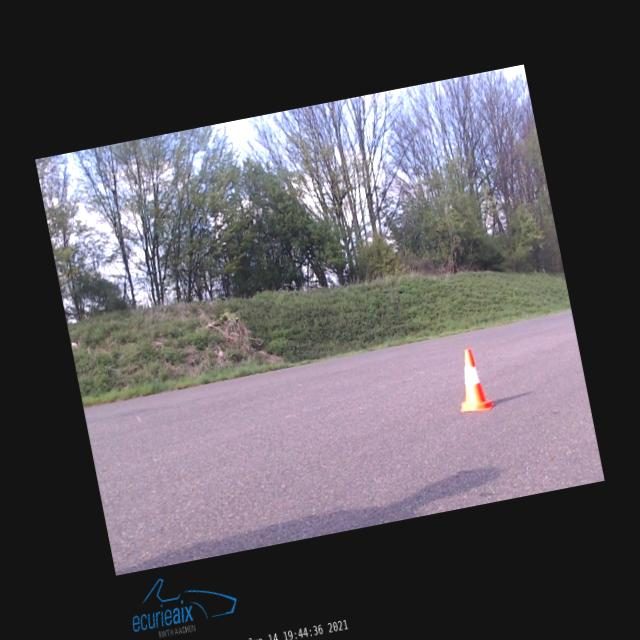orange_cone: (450, 346, 496, 416)
